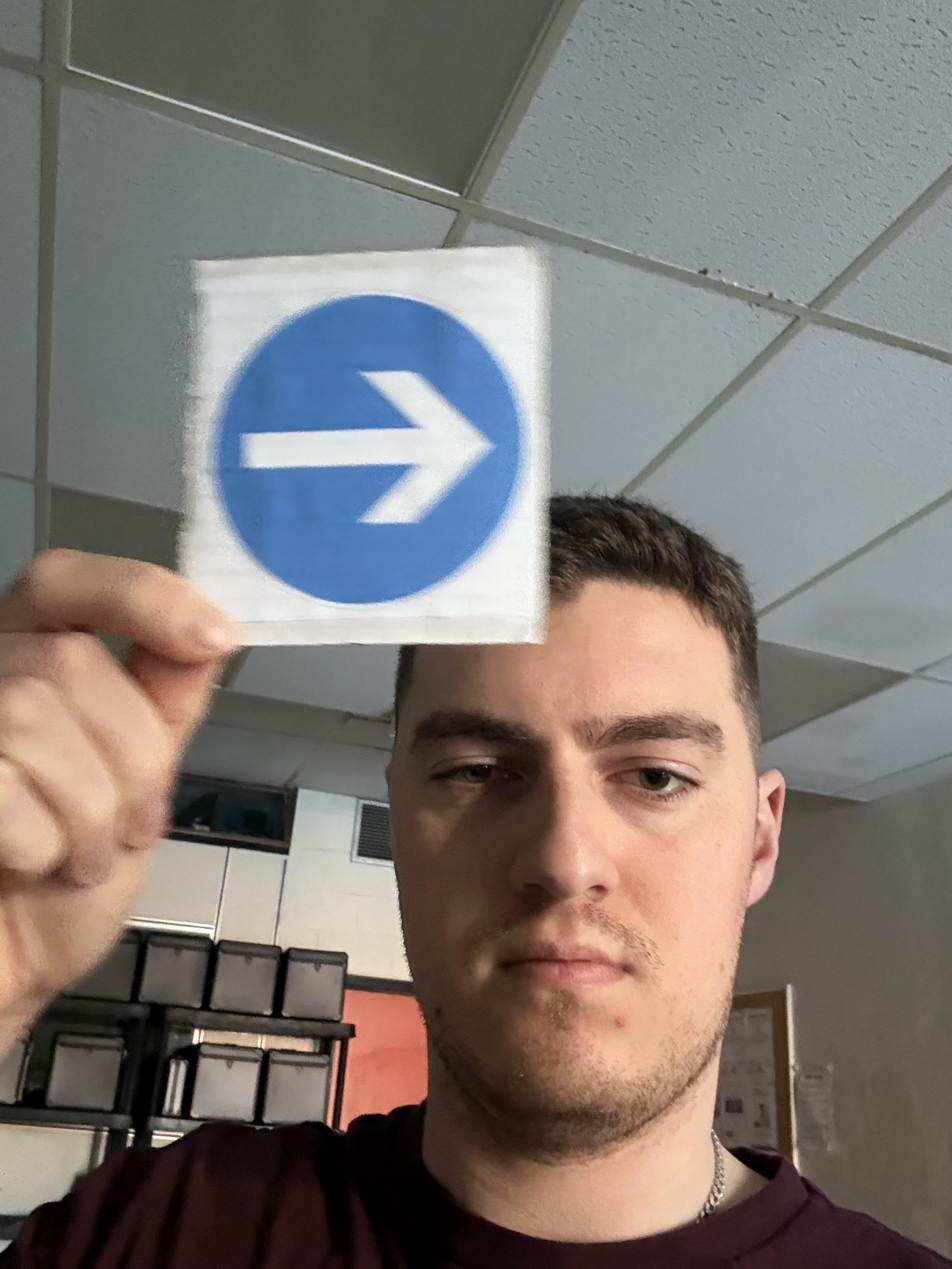Proceed Right: (135, 331, 410, 863)
